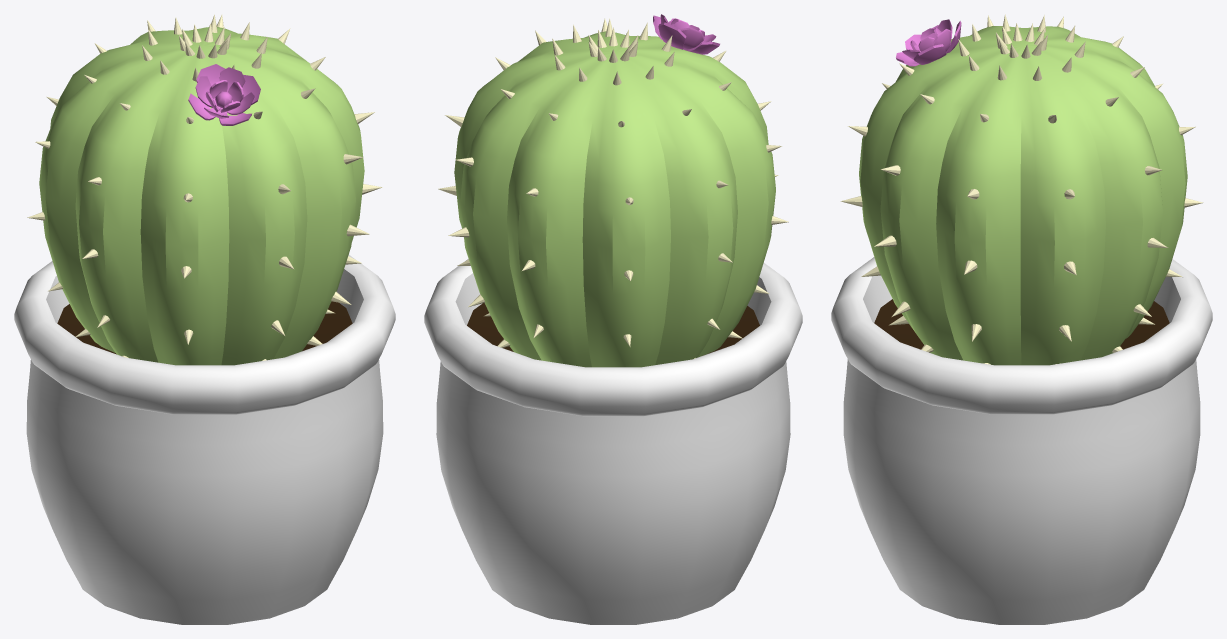
File: Cactus rework.fbx
The picture shows the model from 3 angles, left to right: view 1: azimuth 30°, elevation 25°; view 2: azimuth 150°, elevation 25°; view 3: azimuth 270°, elevation 25°; orthographic projection.
Parts seen in each view (by area): view 1: 0.Cactus; view 2: 0.Cactus; view 3: 0.Cactus.
Part boxes in pixels (box(x1,y1,x2,y2)): 0.Cactus: box(14, 14, 395, 624); 0.Cactus: box(424, 14, 802, 624); 0.Cactus: box(831, 14, 1212, 624).
Size of the model in its own units: 230 by 363 by 234.
